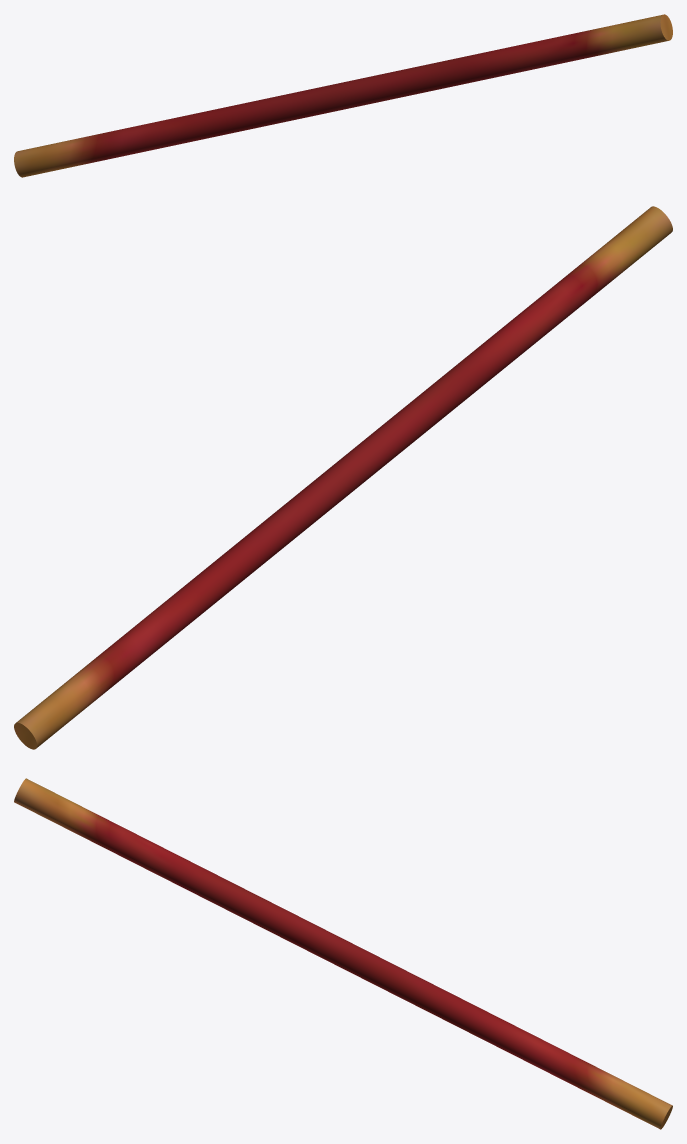
File: Devil Stick.fbx
3 views of the same model, one above another, from view 1: azimuth 90°, elevation 25°; view 2: azimuth 150°, elevation 25°; view 3: azimuth 270°, elevation 25° (orthographic). The views are drawn at different scales.
Visible parts, largest first — view 1: devil stick; view 2: devil stick; view 3: devil stick.
Boxes of the visible parts, left/top/right/bottom form: devil stick: left=14, top=14, right=672, bottom=177; devil stick: left=14, top=206, right=672, bottom=749; devil stick: left=14, top=778, right=672, bottom=1129.
Size of the model in its own units: 93.67 by 105 by 246.
Materials: 1 (1 with a texture image).
